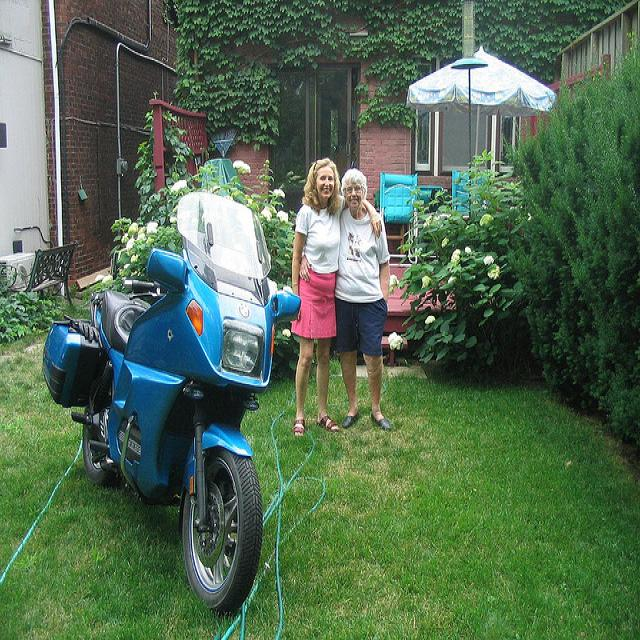motor: (37, 187, 308, 618)
